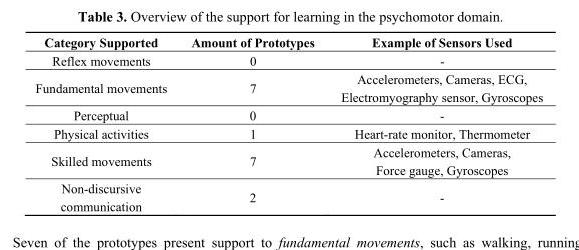table: (34, 34, 542, 212)
table column: (326, 34, 542, 212), (178, 34, 326, 212), (34, 34, 178, 212)
table column header: (34, 34, 542, 51)
table row: (34, 69, 542, 105), (34, 142, 542, 178), (34, 178, 542, 212), (34, 105, 542, 124), (34, 51, 542, 69), (34, 124, 542, 142), (34, 34, 542, 51)
